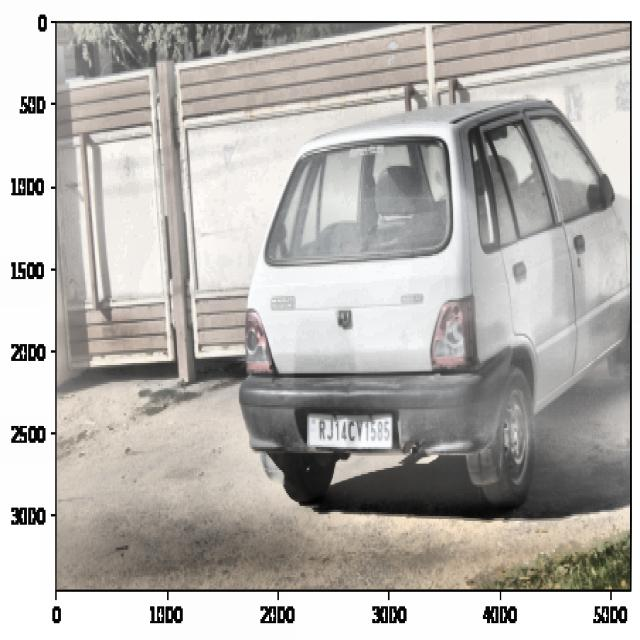license_plate: (311, 410, 393, 448)
